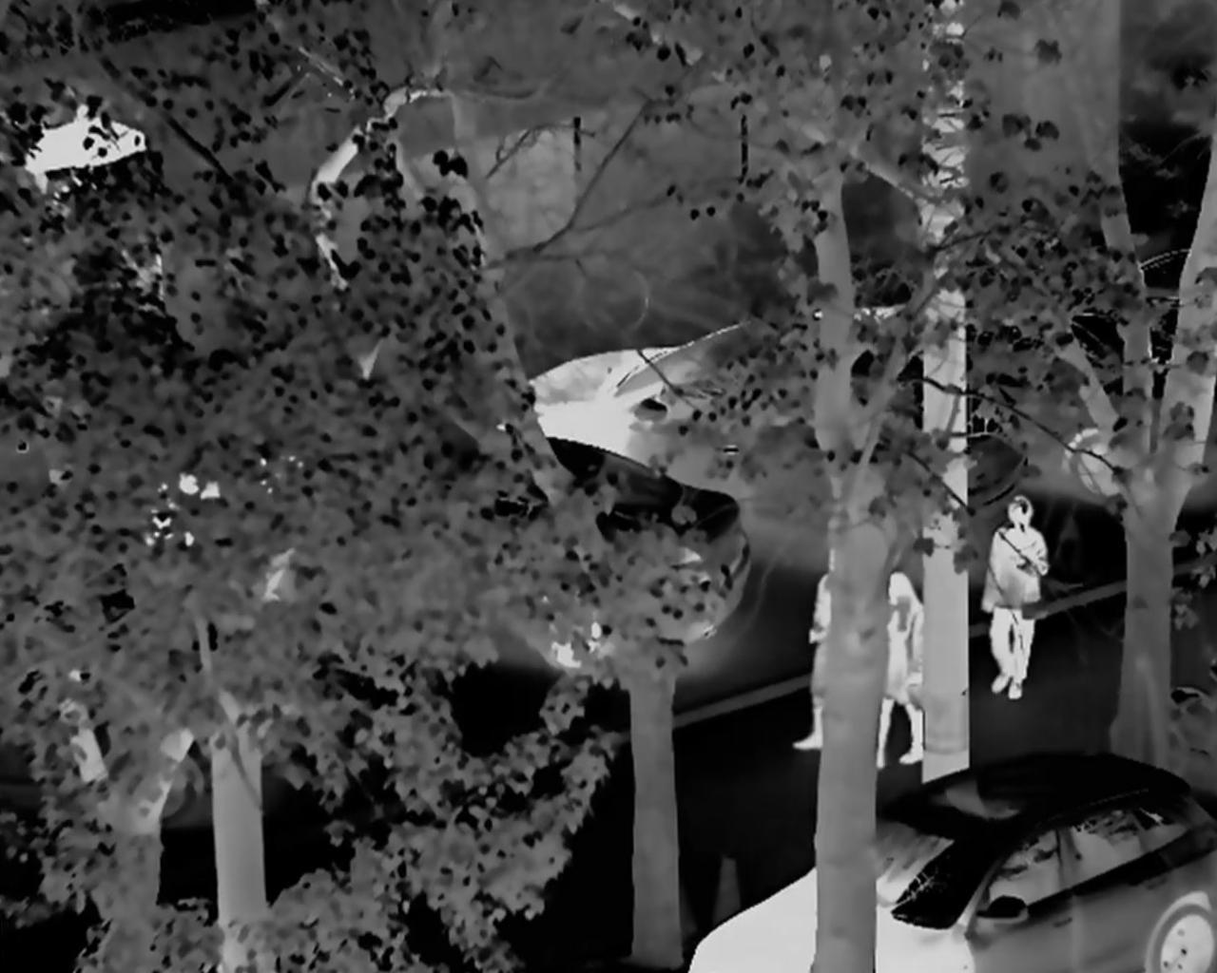person: (782, 546, 876, 754), (977, 487, 1051, 707), (871, 573, 937, 773)
